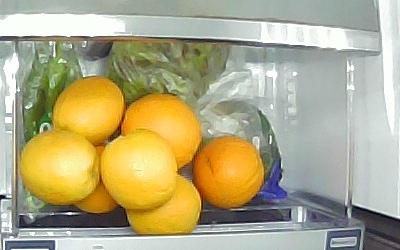orange: (120, 91, 201, 170), (100, 127, 178, 209), (19, 127, 99, 205), (191, 134, 264, 208), (51, 75, 123, 145), (125, 172, 201, 234), (73, 144, 117, 213)
